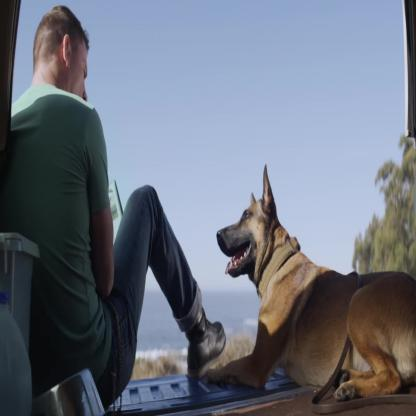dog: (211, 162, 415, 397)
